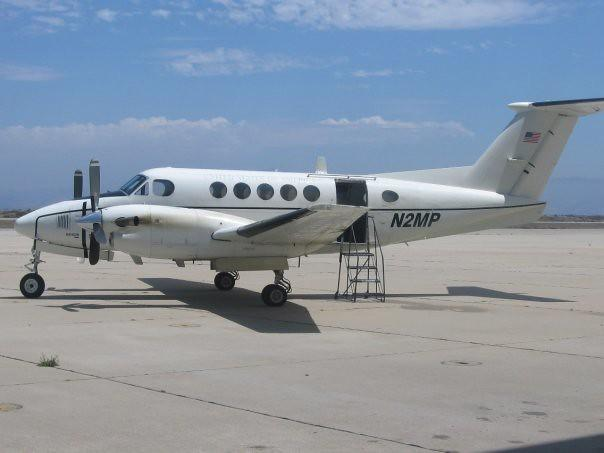plane: (14, 97, 603, 307)
